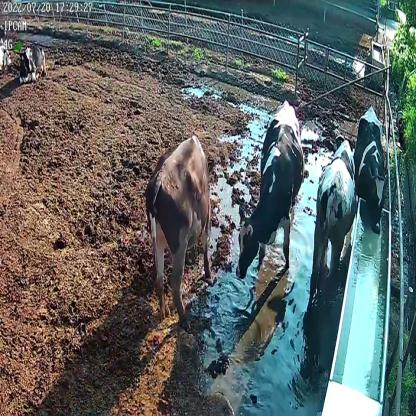cow: (143, 130, 214, 323), (237, 100, 305, 283), (313, 133, 357, 286), (352, 100, 391, 235), (18, 39, 46, 86)
